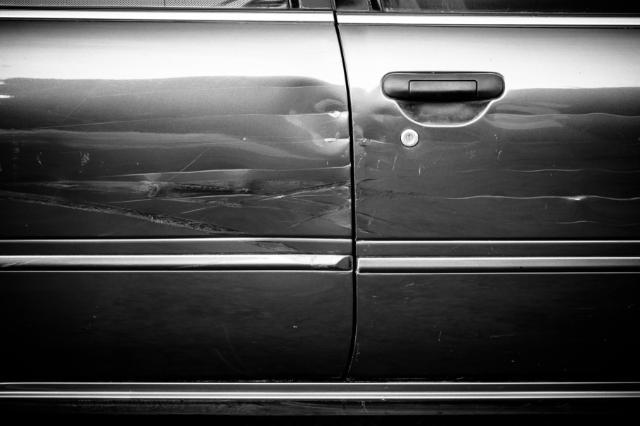Door: (0, 32, 640, 344)
